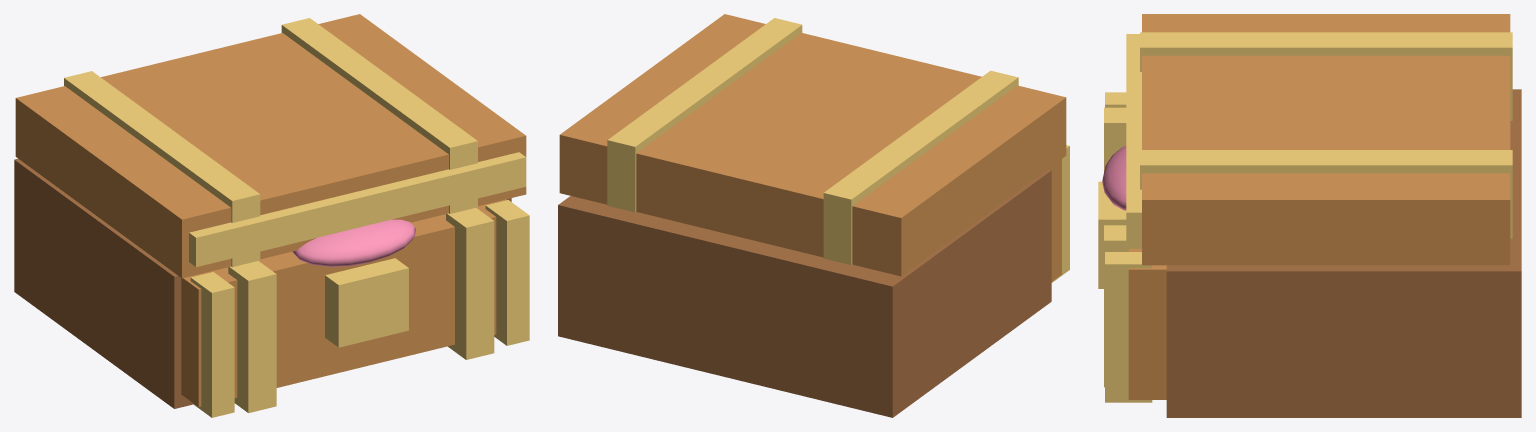
The model's file is mimic-slime.glb.
3 renders of one model, left to right at view 1: azimuth 30°, elevation 25°; view 2: azimuth 150°, elevation 25°; view 3: azimuth 270°, elevation 25°, orthographic. The views are drawn at different scales.
Parts seen in each view (by area): view 1: ChestLid, ChestBase, ChestFront, ChestLidFrontTrim, ChestLidBand_L, ChestLidBand_R, ChestLock, ChestBand_R, ChestBand_L, ChestCorner_L, ChestCorner_R, Tongue; view 2: ChestLid, ChestBase, ChestLidBand_L, ChestLidBand_R, ChestFront, ChestCorner_L; view 3: ChestLid, ChestBase, ChestLidBand_L, ChestLidBand_R, ChestFront, ChestCorner_R, ChestLidFrontTrim, Tongue, ChestLock, ChestBand_L, ChestBand_R.
Boxes of the visible parts, left/top/right/bottom form: ChestLid: left=15, top=14, right=526, bottom=278; ChestBase: left=14, top=158, right=511, bottom=408; ChestFront: left=181, top=199, right=506, bottom=406; ChestLidFrontTrim: left=189, top=152, right=526, bottom=267; ChestLidBand_L: left=64, top=71, right=260, bottom=267; ChestLidBand_R: left=281, top=18, right=477, bottom=213; ChestLock: left=325, top=258, right=408, bottom=347; ChestBand_R: left=446, top=208, right=494, bottom=359; ChestBand_L: left=228, top=261, right=276, bottom=413; ChestCorner_L: left=190, top=272, right=234, bottom=417; ChestCorner_R: left=485, top=200, right=529, bottom=345; Tongue: left=292, top=219, right=415, bottom=266; ChestLid: left=559, top=14, right=1066, bottom=276; ChestBase: left=558, top=169, right=1051, bottom=417; ChestLidBand_L: left=823, top=70, right=1018, bottom=265; ChestLidBand_R: left=607, top=18, right=802, bottom=212; ChestFront: left=1048, top=159, right=1061, bottom=281; ChestCorner_L: left=1051, top=145, right=1069, bottom=282; ChestLid: left=1142, top=14, right=1510, bottom=265; ChestBase: left=1166, top=89, right=1521, bottom=417; ChestLidBand_L: left=1140, top=32, right=1512, bottom=120; ChestLidBand_R: left=1140, top=150, right=1512, bottom=238; ChestFront: left=1128, top=248, right=1166, bottom=399; ChestCorner_R: left=1105, top=252, right=1152, bottom=402; ChestLidFrontTrim: left=1126, top=34, right=1141, bottom=244; Tongue: left=1102, top=146, right=1126, bottom=210; ChestLock: left=1098, top=181, right=1126, bottom=288; ChestBand_L: left=1104, top=107, right=1126, bottom=171; ChestBand_R: left=1104, top=225, right=1141, bottom=387.
Size of the model in its own units: 1.96 by 1.12 by 1.88.
